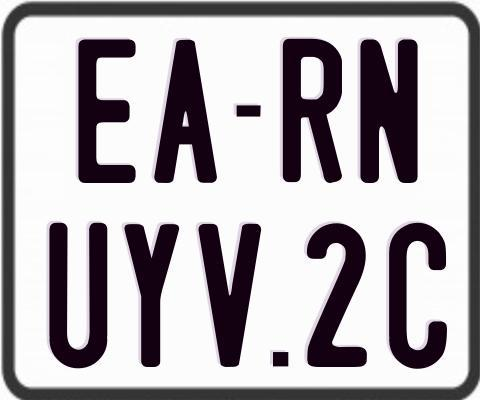2: (306, 221, 366, 368)
A: (154, 39, 221, 188)
C: (386, 220, 449, 369)
E: (77, 39, 136, 187)
N: (357, 39, 417, 184)
R: (281, 36, 341, 182)
U: (47, 223, 109, 368)
V: (197, 224, 266, 368)
Y: (124, 221, 182, 369)
